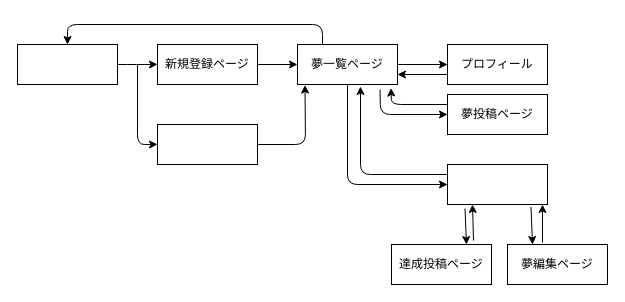
Some shapes in this 625 by 302 pixel diagram are drawn without their labels. The centre of each missing label's shape, as x and y in pixels:
"TOPページ" belongs at point (67, 64).
"ログインページ" belongs at point (207, 144).
"夢詳細ページ" belongs at point (497, 184).
